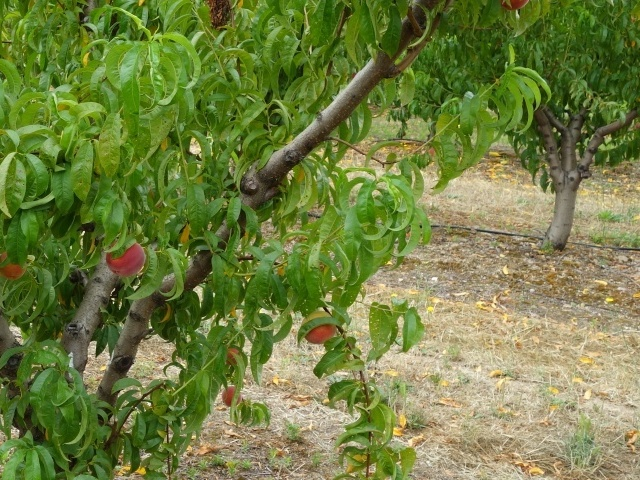peach: (102, 236, 148, 281), (299, 307, 340, 350), (218, 381, 244, 411), (221, 344, 244, 367)
